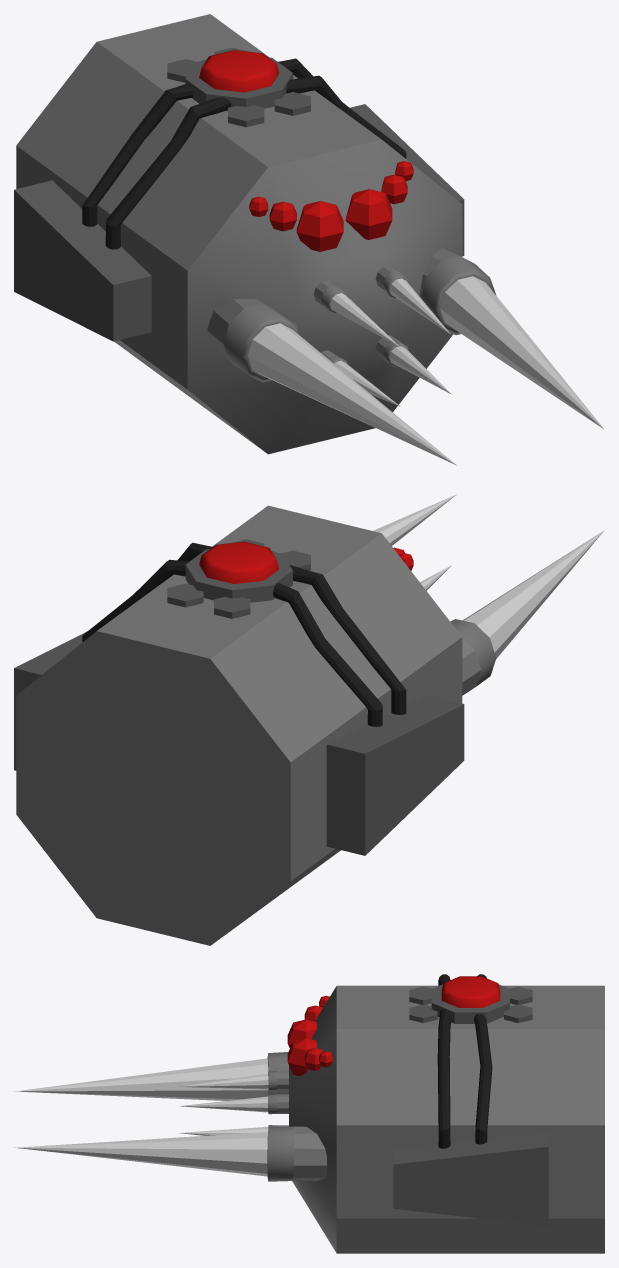
The model's file is Head.fbx.
3 renders of one model, top to bottom at view 1: azimuth 30°, elevation 25°; view 2: azimuth 150°, elevation 25°; view 3: azimuth 270°, elevation 25°, orthographic. The views are drawn at different scales.
Visible parts, largest first — view 1: BodyCore, PawRight, polySurface6, polySurface4, polySurface5, TubeFrrontRight, polySurface2, TubeBackRight, polySurface3, polySurface1, EyeRight, EyeLeft (+9 smaller); view 2: BodyCore, PawRight, polySurface6, polySurface2, TubeBackRight, TubeFrrontRight, polySurface1, polySurface5, PawLeft, TubeBackLeft, polySurface4, CrystalSide1 (+1 smaller); view 3: BodyCore, PawLeft, polySurface4, polySurface6, polySurface3, TubeFrontLeft, TubeBackLeft, polySurface2, polySurface1, polySurface10, polySurface12, EyeLeft (+7 smaller).
Part boxes in pixels (left/top/right/bottom): BodyCore: left=16, top=14, right=462, bottom=454; PawRight: left=14, top=180, right=151, bottom=341; polySurface6: left=248, top=323, right=456, bottom=465; polySurface4: left=440, top=276, right=604, bottom=429; polySurface5: left=207, top=299, right=300, bottom=382; TubeFrrontRight: left=105, top=97, right=231, bottom=249; polySurface2: left=199, top=50, right=279, bottom=92; TubeBackRight: left=82, top=83, right=193, bottom=226; polySurface3: left=419, top=248, right=495, bottom=335; polySurface1: left=185, top=57, right=292, bottom=111; EyeRight: left=296, top=201, right=343, bottom=251; EyeLeft: left=345, top=189, right=392, bottom=239; BodyCore: left=16, top=505, right=462, bottom=945; PawRight: left=326, top=695, right=464, bottom=855; polySurface6: left=462, top=530, right=604, bottom=658; polySurface2: left=199, top=541, right=279, bottom=583; TubeBackRight: left=273, top=583, right=382, bottom=726; TubeFrrontRight: left=289, top=565, right=406, bottom=714; polySurface1: left=185, top=549, right=292, bottom=602; polySurface5: left=450, top=619, right=496, bottom=695; PawLeft: left=14, top=631, right=87, bottom=770; TubeBackLeft: left=82, top=559, right=188, bottom=642; polySurface4: left=373, top=494, right=456, bottom=545; CrystalSide1: left=214, top=597, right=250, bottom=618; BodyCore: left=289, top=985, right=604, bottom=1253; PawLeft: left=393, top=1132, right=548, bottom=1226; polySurface4: left=15, top=1132, right=267, bottom=1176; polySurface6: left=14, top=1058, right=268, bottom=1100; polySurface3: left=267, top=1126, right=326, bottom=1181; TubeFrontLeft: left=437, top=1009, right=451, bottom=1148; TubeBackLeft: left=474, top=1013, right=492, bottom=1144; polySurface2: left=441, top=976, right=500, bottom=1007; polySurface1: left=431, top=984, right=509, bottom=1023; polySurface10: left=178, top=1073, right=268, bottom=1089; polySurface12: left=179, top=1096, right=268, bottom=1112; EyeLeft: left=287, top=1038, right=316, bottom=1076.
Bounding box in the file's own units: 2.37 × 2.02 × 4.41.
